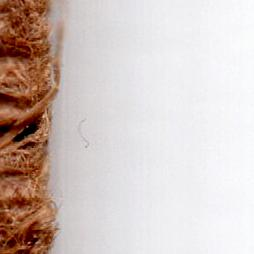egg: (15, 123, 35, 141)
